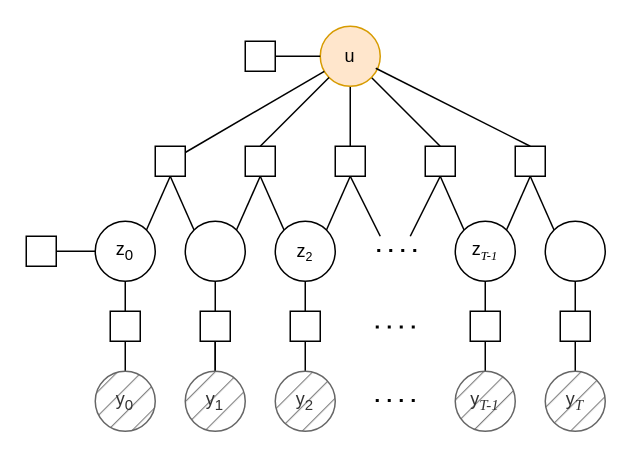
Image size: 632x458. Some labels were removed from this diagram. Here are the shapes that lost their labels. From the top down, the centre of each, then its label:
[214,250]: z 1
[574,250]: z T
